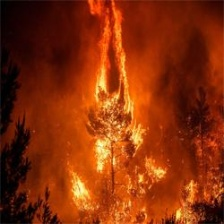fire: (53, 4, 197, 223)
